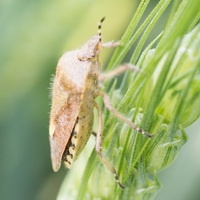insect: (49, 17, 152, 188)
